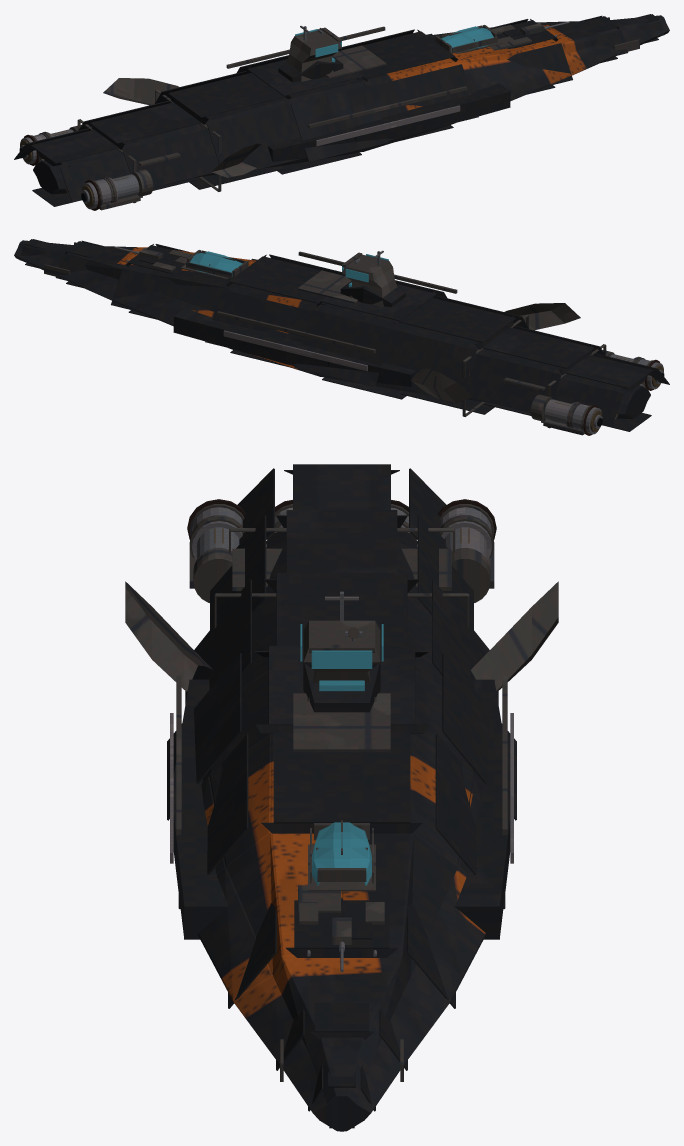
File: leviathan_production_v1_lod2.glb
3 views of the same model, one above another, from view 1: azimuth 30°, elevation 25°; view 2: azimuth 150°, elevation 25°; view 3: azimuth 270°, elevation 25° (orthographic). The views are drawn at different scales.
Parts seen in each view (by area): view 1: LOD2_Hull, LOD2_Armor, LOD2_Mechanical, LOD2_Canopy; view 2: LOD2_Hull, LOD2_Armor, LOD2_Mechanical, LOD2_Canopy; view 3: LOD2_Hull, LOD2_Armor, LOD2_Mechanical, LOD2_Canopy.
Boxes of the visible parts, left/top/right/bottom form: LOD2_Hull: left=14, top=14, right=669, bottom=206; LOD2_Armor: left=30, top=17, right=639, bottom=210; LOD2_Mechanical: left=19, top=21, right=569, bottom=209; LOD2_Canopy: left=295, top=26, right=493, bottom=62; LOD2_Hull: left=14, top=239, right=669, bottom=431; LOD2_Armor: left=44, top=242, right=653, bottom=435; LOD2_Mechanical: left=114, top=246, right=664, bottom=434; LOD2_Canopy: left=190, top=251, right=388, bottom=287; LOD2_Hull: left=167, top=464, right=516, bottom=1131; LOD2_Armor: left=125, top=504, right=558, bottom=1081; LOD2_Mechanical: left=170, top=507, right=513, bottom=972; LOD2_Canopy: left=300, top=624, right=383, bottom=885.
Size of what is drawn, in the model's own units: 26.76 by 5.21 by 8.1.
8 materials, 8 textured.
